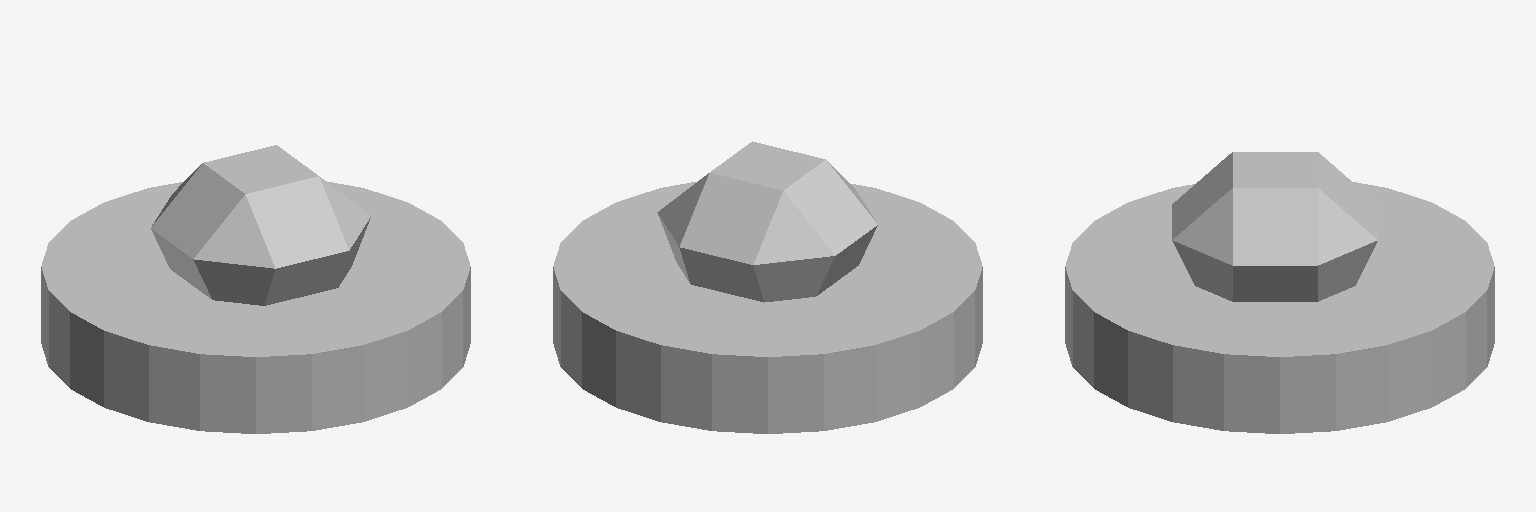
Rendered from gems_emerald_2.obj.
3 renders of one model, left to right at view 1: azimuth 30°, elevation 25°; view 2: azimuth 150°, elevation 25°; view 3: azimuth 270°, elevation 25°, orthographic.
Visible parts, largest first — view 1: mergedBlocks; view 2: mergedBlocks; view 3: mergedBlocks.
Boxes of the visible parts, <box> form: mergedBlocks: <box>41,145,470,433</box>; mergedBlocks: <box>553,141,982,433</box>; mergedBlocks: <box>1065,152,1494,433</box>.
Size of the model in its own units: 1 by 0.45 by 1.